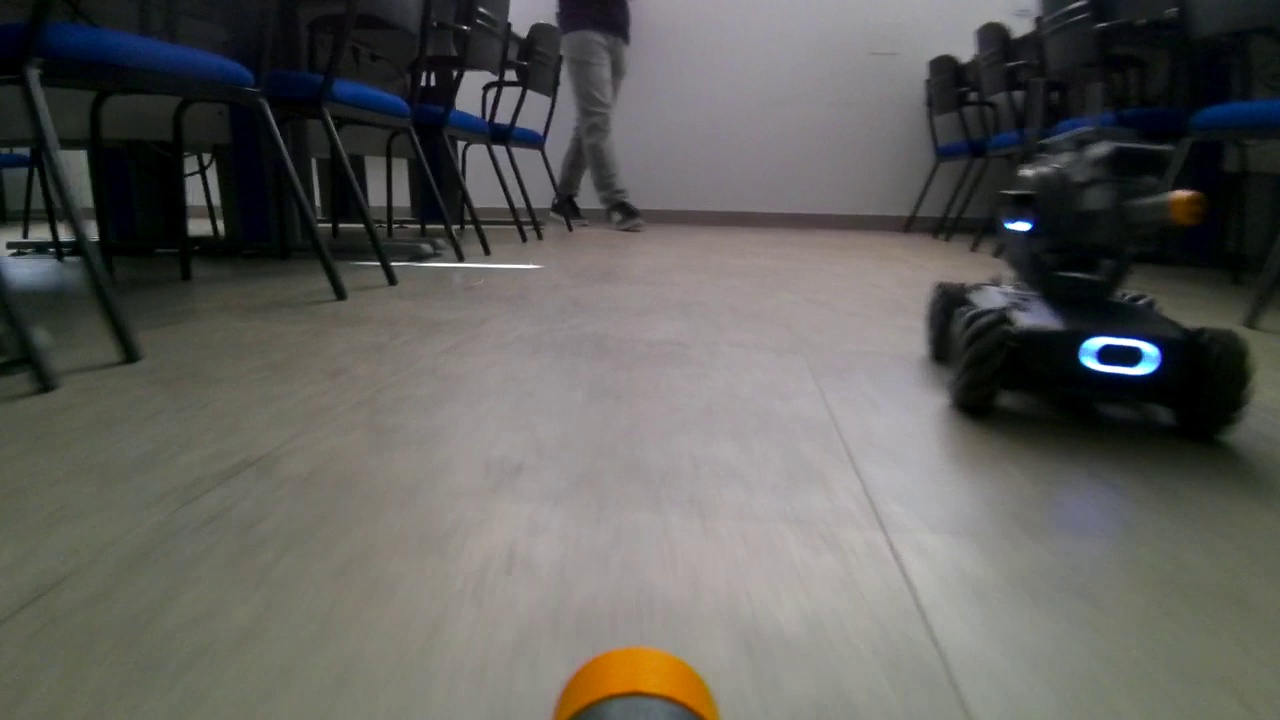robot: (906, 80, 1262, 457)
